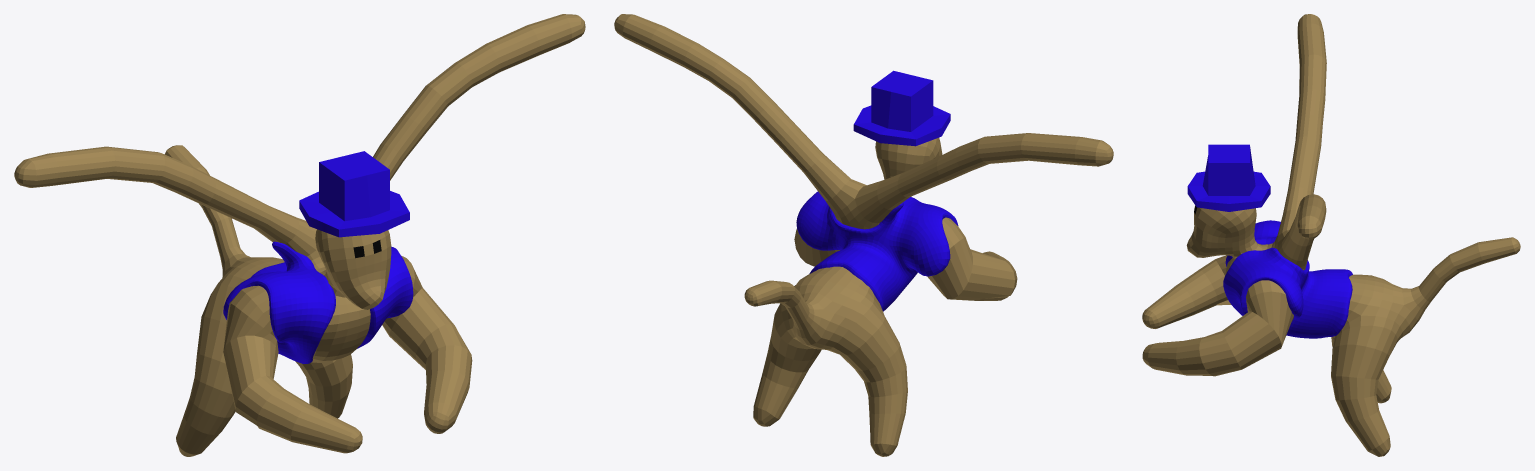
File: Monkey2Pose3.fbx
The picture shows the model from 3 angles, left to right: view 1: azimuth 30°, elevation 25°; view 2: azimuth 150°, elevation 25°; view 3: azimuth 270°, elevation 25°; orthographic projection. The views are drawn at different scales.
Parts seen in each view (by area): view 1: MonkeyV2_1_Group55569, vest_Group43999, pCube6; view 2: MonkeyV2_1_Group55569, vest_Group43999, pCube6; view 3: MonkeyV2_1_Group55569, vest_Group43999, pCube6.
Boxes of the visible parts, x1=… form: MonkeyV2_1_Group55569: x1=14, y1=14, x2=585, y2=456; vest_Group43999: x1=223, y1=241, x2=413, y2=363; pCube6: x1=299, y1=151, x2=409, y2=237; MonkeyV2_1_Group55569: x1=614, y1=14, x2=1113, y2=456; vest_Group43999: x1=796, y1=191, x2=958, y2=311; pCube6: x1=853, y1=70, x2=950, y2=146; MonkeyV2_1_Group55569: x1=1142, y1=14, x2=1520, y2=456; vest_Group43999: x1=1223, y1=220, x2=1352, y2=338; pCube6: x1=1187, y1=144, x2=1270, y2=211.
Size of the model in its own units: 11.91 by 7.84 by 8.43.
